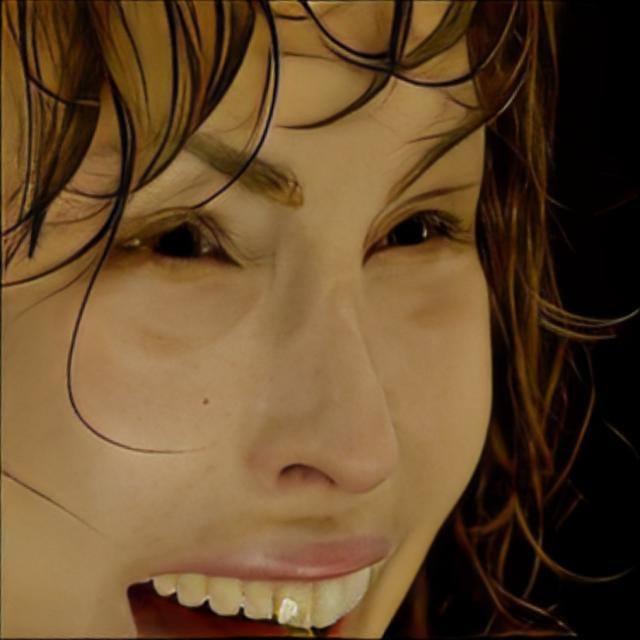fear: (5, 0, 493, 640)
